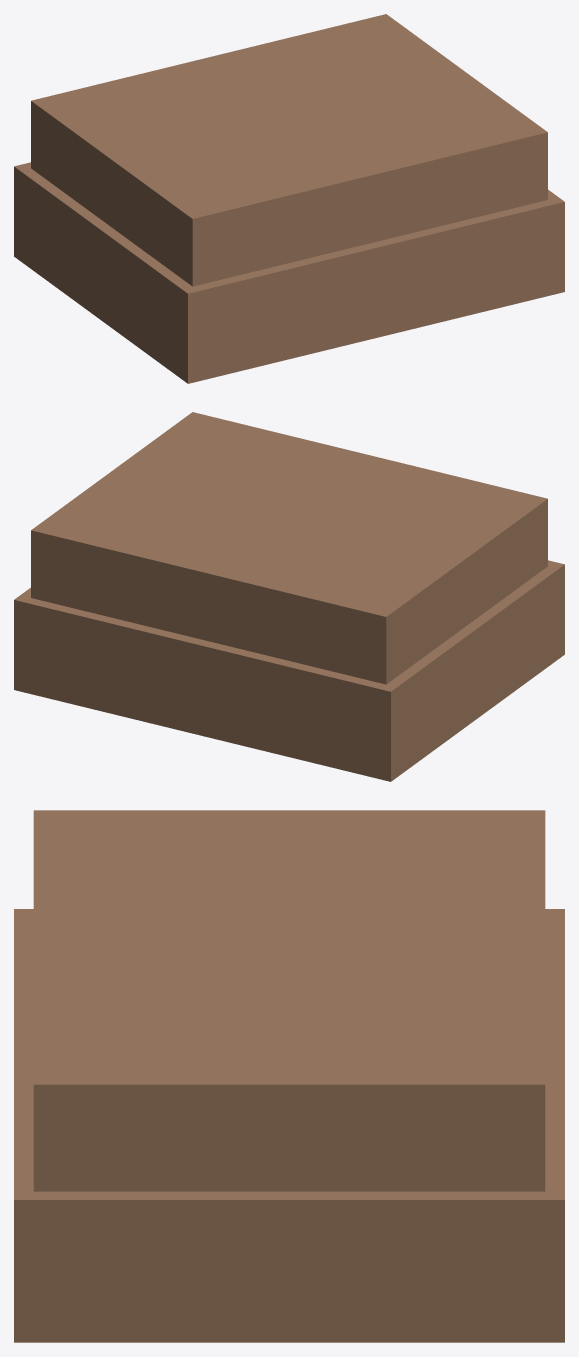
Rendered from 03_book.glb.
3 views of the same model, one above another, from view 1: azimuth 30°, elevation 25°; view 2: azimuth 150°, elevation 25°; view 3: azimuth 270°, elevation 25° (orthographic). The views are drawn at different scales.
Visible parts, largest first — view 1: law_03_book; view 2: law_03_book; view 3: law_03_book.
Part boxes in pixels (x1,y1,x2,y2): law_03_book: (14,14,564,383); law_03_book: (14,412,564,781); law_03_book: (14,810,564,1342).
Bounding box in the file's own units: 0.35 × 0.14 × 0.28.
